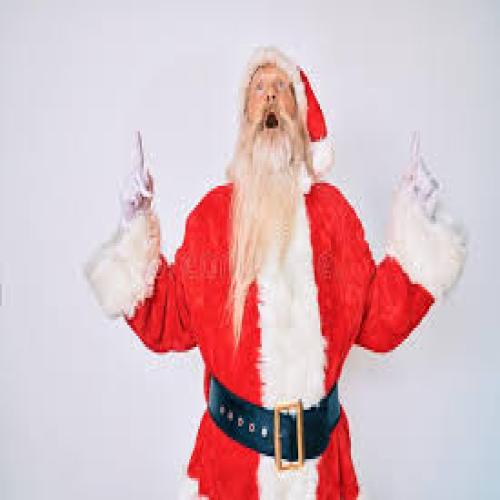Santa: (86, 43, 468, 500)
